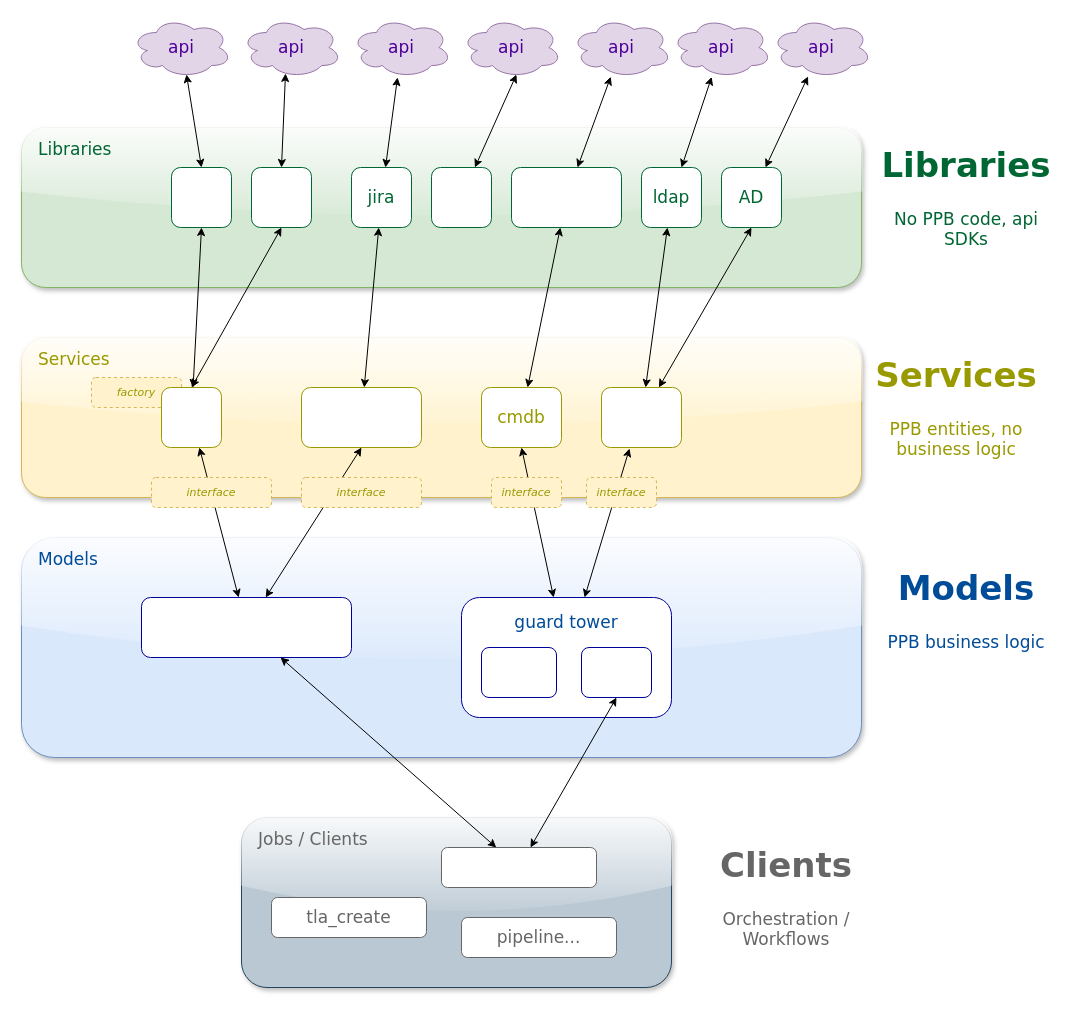
This 1079x1012 diagram has some shape labels left out. Each missing label, with the centre of its shape:
auth: the point at 641,417
change management: the point at 246,627
decomm: the point at 616,672
github: the point at 281,197
gitlab: the point at 201,197
issue tracker: the point at 361,417
jira insight: the point at 566,197
scm: the point at 191,417
tla creation: the point at 518,672
tla_decomm: the point at 518,867
tp: the point at 461,197
